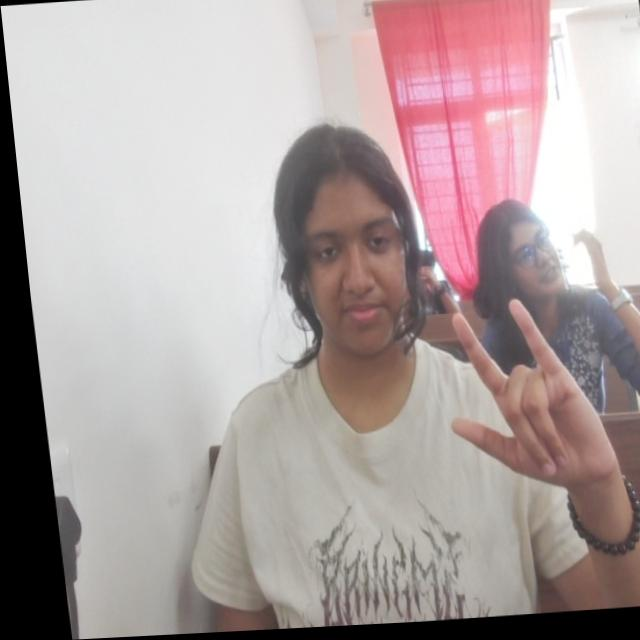iloveyou: (426, 298, 609, 501)
